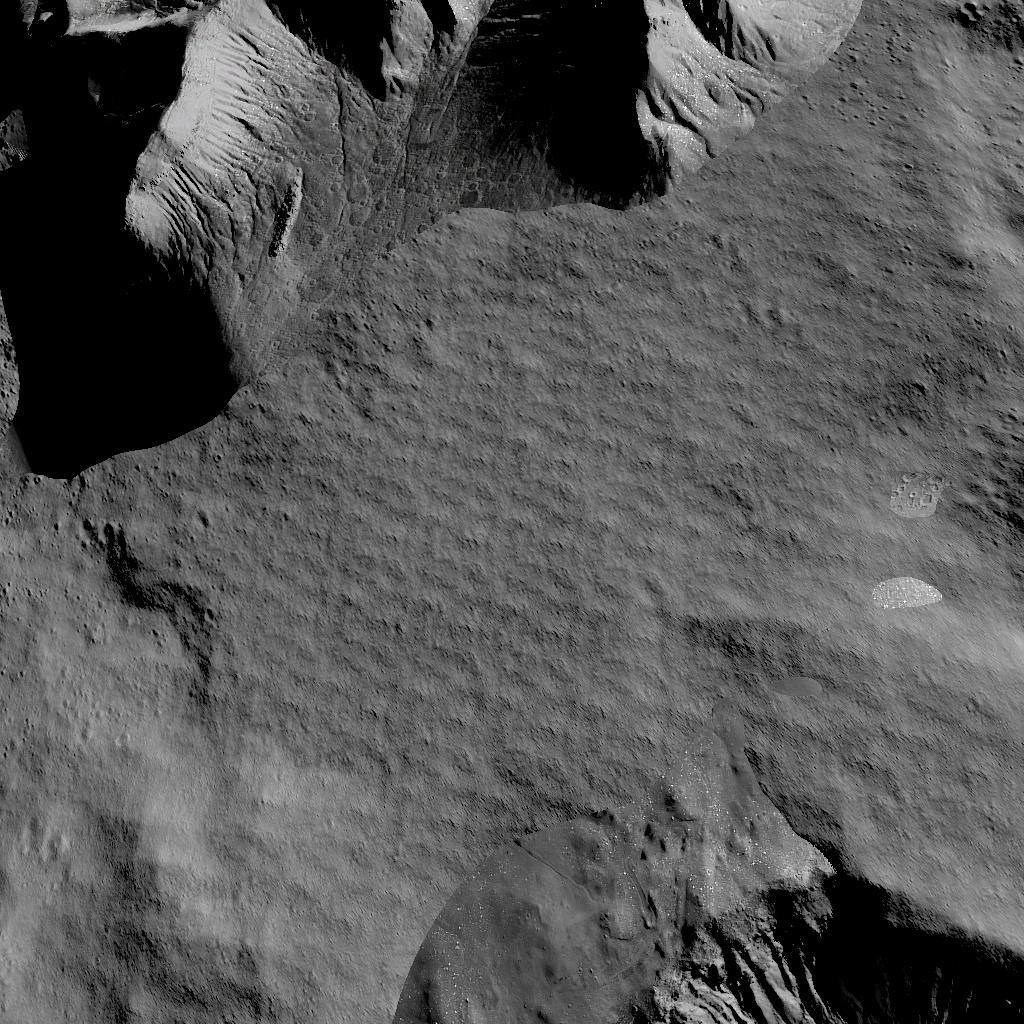Boulders: (26, 0, 874, 408)
Crater: (481, 824, 1024, 1024), (969, 414, 1024, 558)
Plan surface: (10, 476, 432, 1024), (458, 438, 932, 784), (915, 64, 1024, 370)
